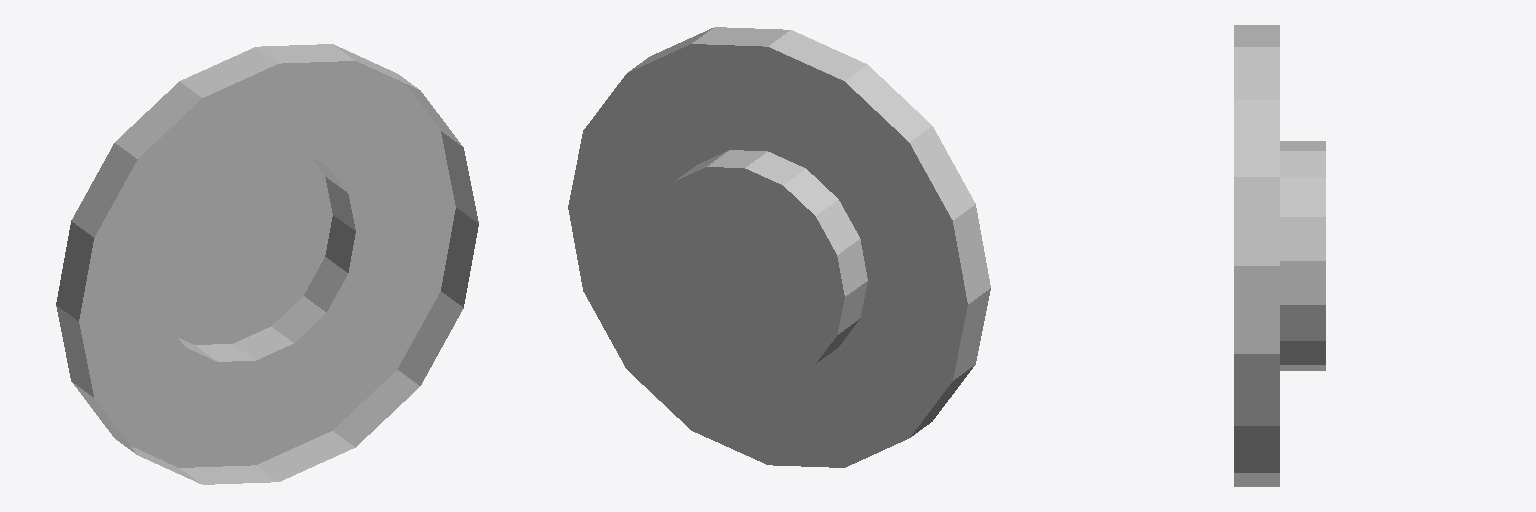
File: Button.obj
The picture shows the model from 3 angles: view 1: azimuth 30°, elevation 25°; view 2: azimuth 150°, elevation 25°; view 3: azimuth 270°, elevation 25°; orthographic projection.
Visible parts, largest first — view 1: Circle; view 2: Circle; view 3: Circle.
Boxes of the visible parts, <box> form: Circle: <box>56,44,478,484</box>; Circle: <box>568,27,990,467</box>; Circle: <box>1234,25,1325,486</box>.
Size of the model in its own units: 2 by 2 by 0.4.